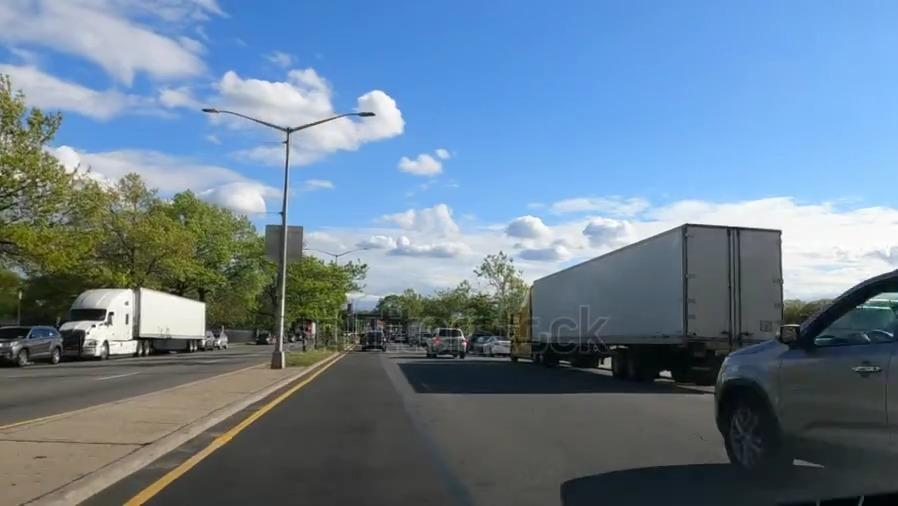car: (739, 275, 898, 473), (1, 325, 61, 368), (428, 328, 465, 354), (363, 329, 386, 351), (489, 336, 512, 356), (202, 329, 214, 350), (255, 332, 272, 346), (215, 331, 227, 349), (475, 336, 486, 353), (468, 331, 474, 350)
truck: (512, 238, 770, 369), (69, 289, 206, 356)
wheel: (721, 403, 781, 469)
